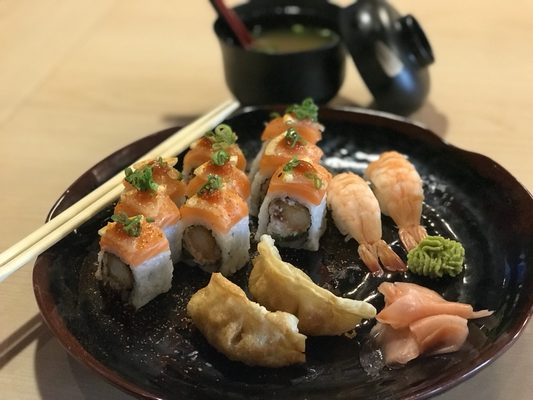curry: (406, 233, 466, 281)
sushi: (7, 96, 533, 398)
